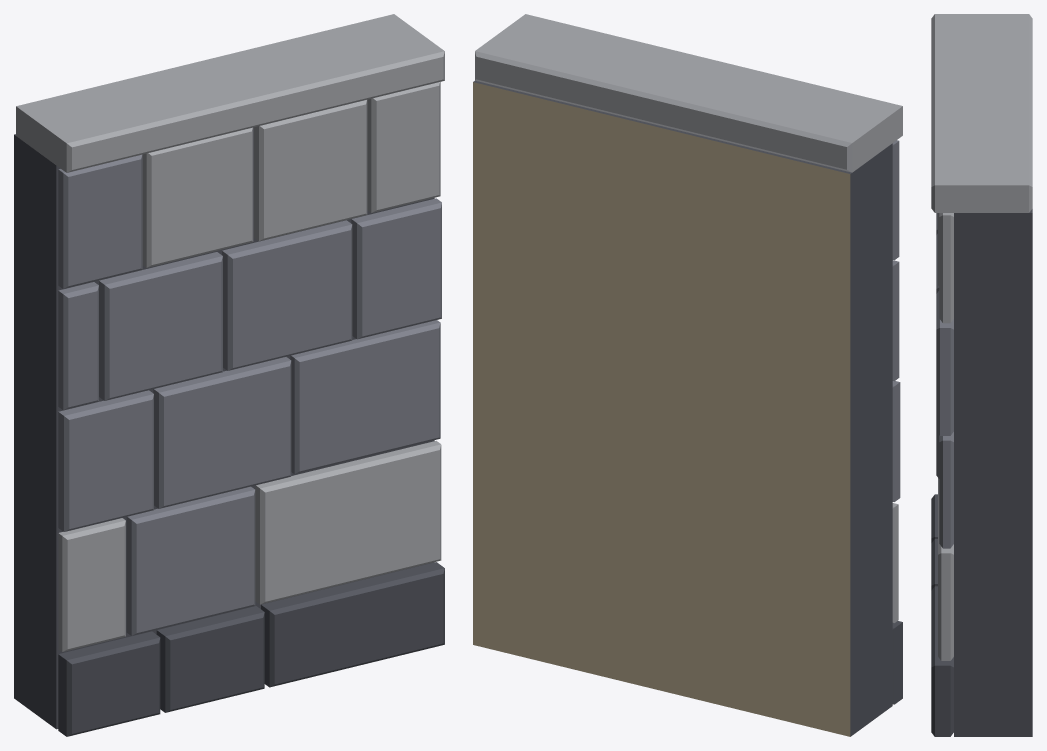
The model's file is WallStraight_13.glb.
3 views of the same model, side by side, from view 1: azimuth 30°, elevation 25°; view 2: azimuth 150°, elevation 25°; view 3: azimuth 270°, elevation 25° (orthographic). The views are drawn at different scales.
Visible parts, largest first — view 1: WallStraight_13; view 2: WallStraight_13; view 3: WallStraight_13.
Boxes of the visible parts, x1=… form: WallStraight_13: x1=14, y1=14, x2=444, y2=736; WallStraight_13: x1=473, y1=14, x2=902, y2=736; WallStraight_13: x1=931, y1=14, x2=1032, y2=736.
Size of the model in its own units: 8 by 12 by 2.
